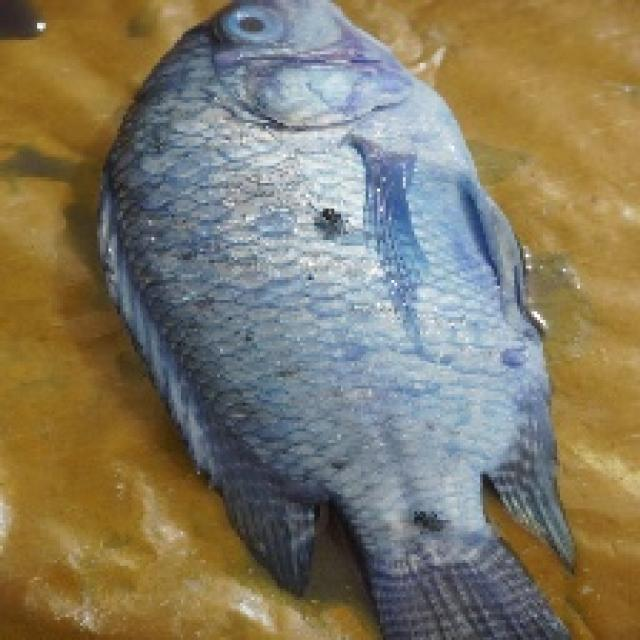Non-Fresh: (127, 0, 581, 557), (211, 2, 290, 53)
